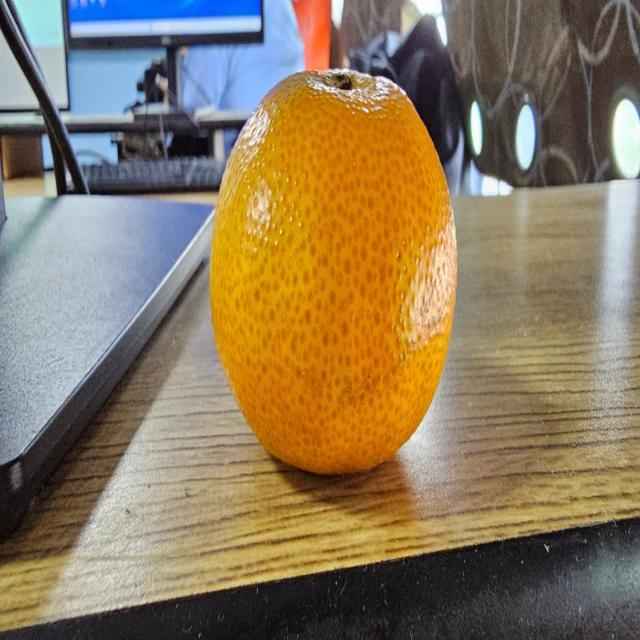Jeruk Mandarin: (204, 57, 463, 481)
